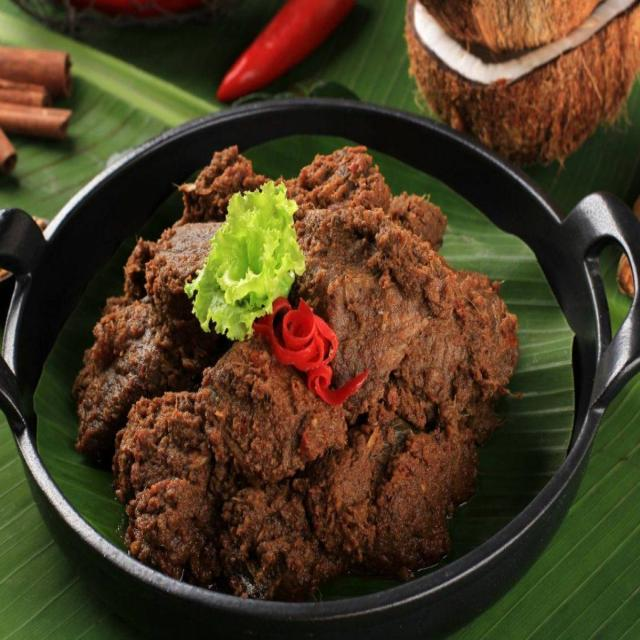Rendang: (87, 147, 525, 598)
